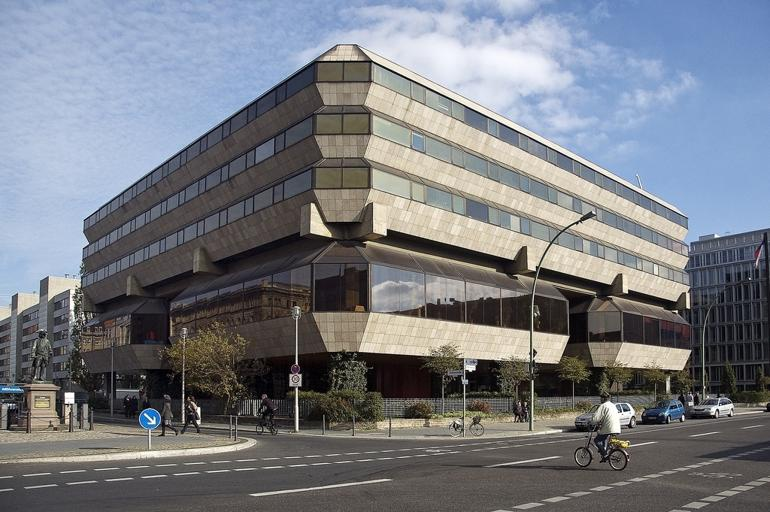non-vehicle: (573, 422, 631, 470), (448, 416, 484, 437), (255, 411, 278, 436)
